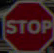Stop: (2, 8, 49, 41)
